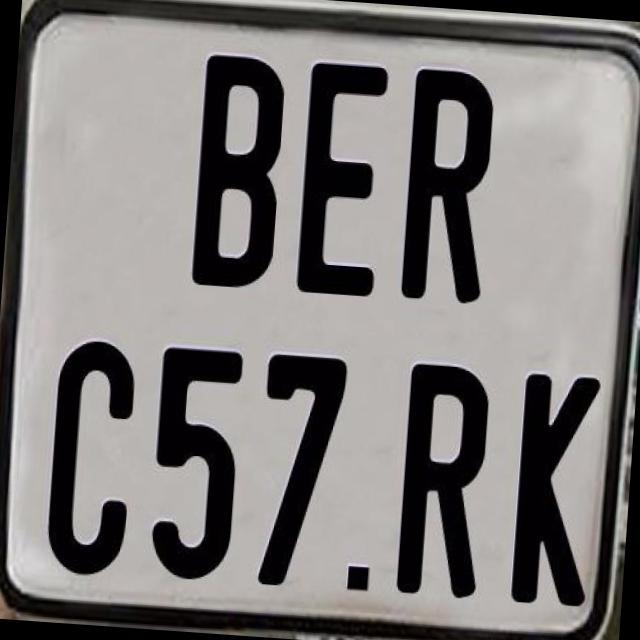5: (146, 341, 242, 580)
7: (247, 352, 347, 596)
B: (190, 49, 286, 294)
C: (44, 339, 144, 579)
E: (295, 58, 393, 302)
K: (508, 369, 598, 603)
